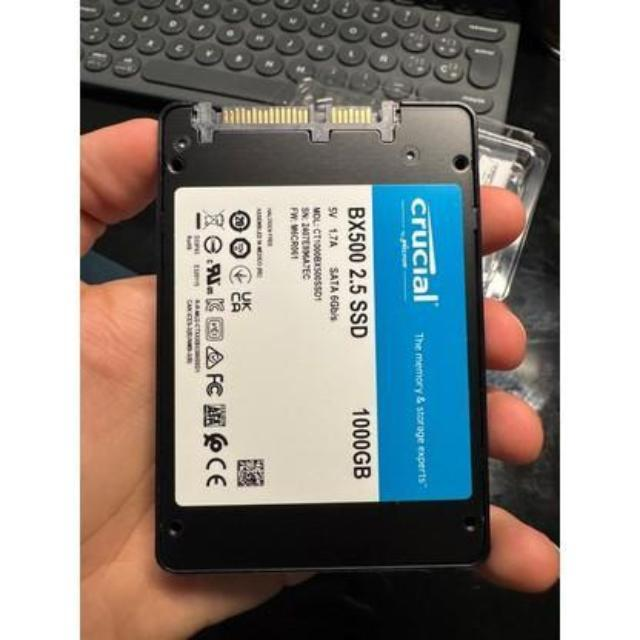DISK: (154, 98, 492, 573)
